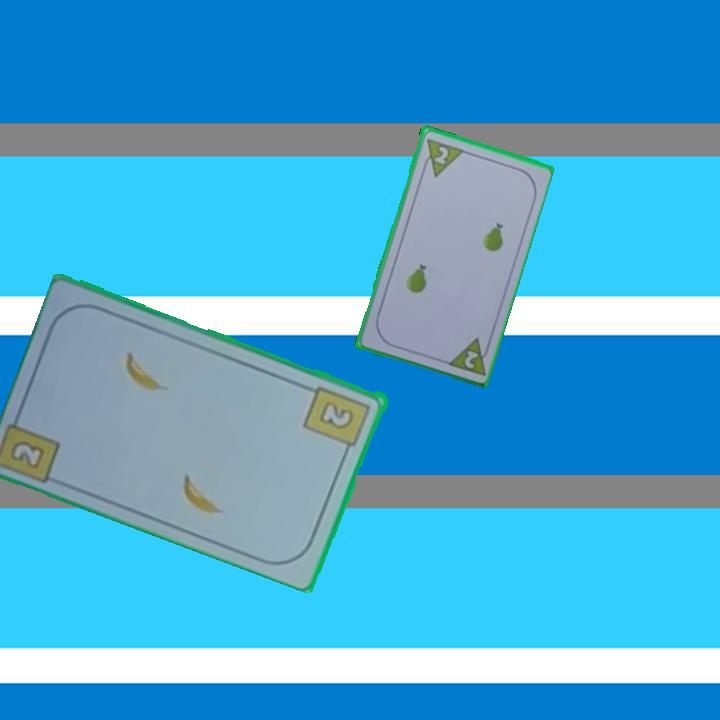2b: (301, 382, 374, 457), (7, 436, 48, 472)
2p: (443, 334, 494, 378), (418, 134, 465, 180)
